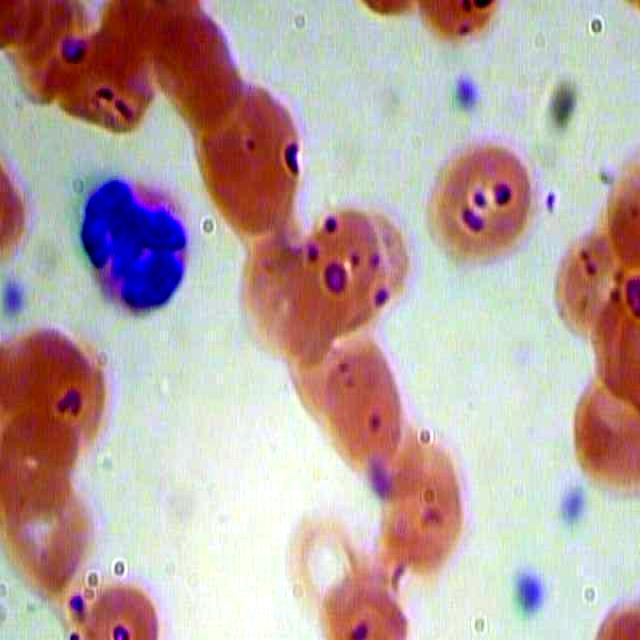Platelets: (450, 68, 490, 117), (554, 480, 594, 529), (511, 567, 551, 616), (1, 272, 39, 321)
RBC: (191, 74, 302, 245), (305, 338, 423, 471), (428, 138, 546, 270), (269, 490, 387, 622), (1, 409, 118, 542), (1, 326, 118, 458), (377, 436, 466, 576), (239, 230, 333, 354), (294, 210, 388, 334), (77, 565, 170, 640)
WBC: (71, 168, 192, 327)
